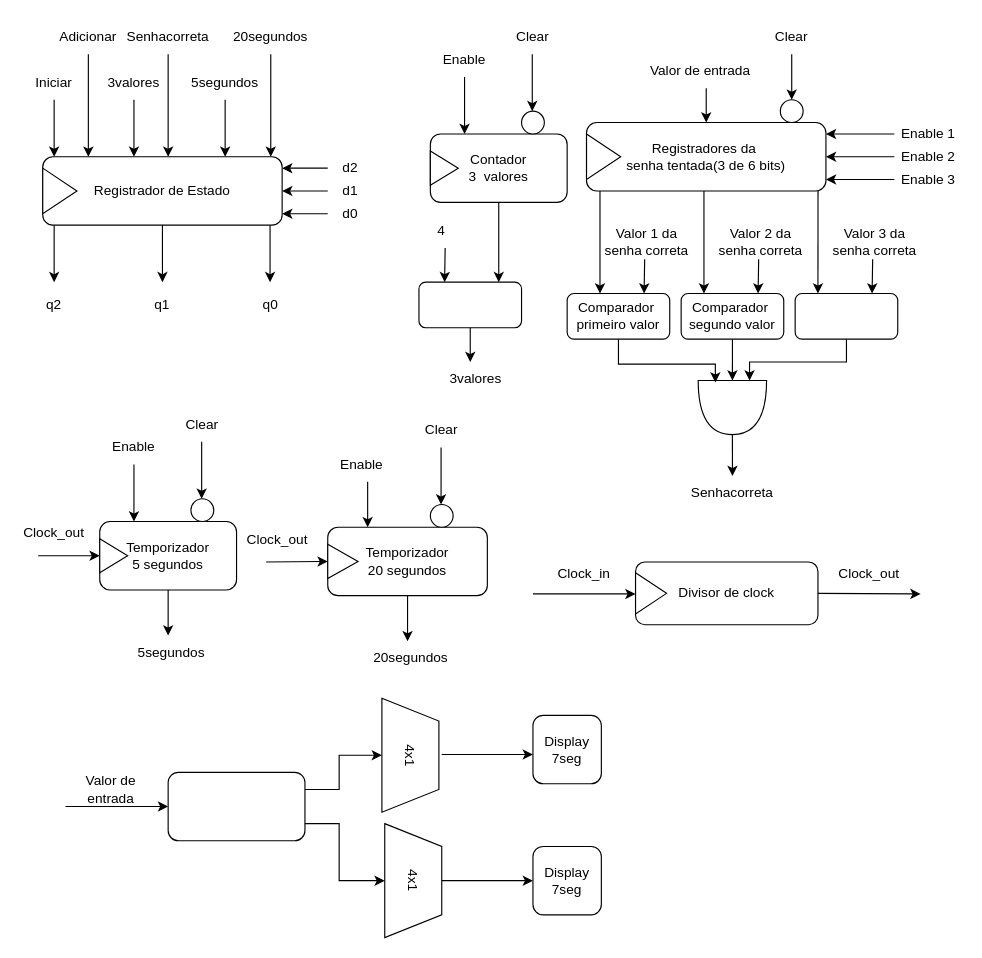
Image size: 982x958. Some labels were removed from this diagram. The shapes that lost their labels are listed below. From the top down, each one's centre as x and y in pixels, then its label:
At point 470,304: "Comparador 3valores".
At point 846,315: "Comparador terceiro valor".
At point 236,806: "Conversor BIN-BCD".
